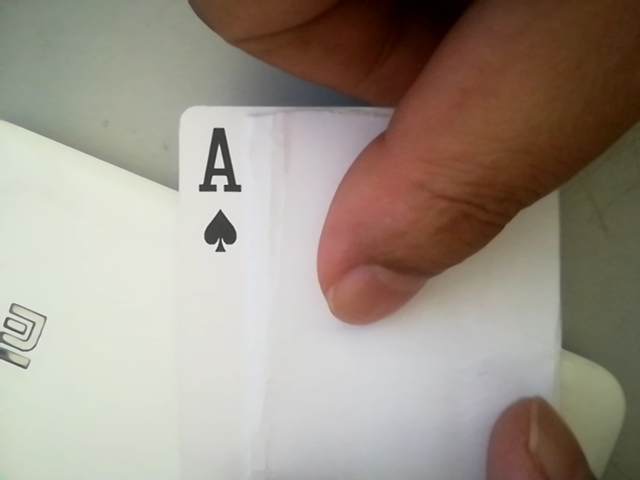ht a: (184, 115, 258, 263)
